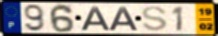1: (170, 6, 185, 32)
6: (48, 3, 76, 33)
9: (23, 3, 46, 32)
A: (80, 5, 112, 31), (108, 5, 139, 31)
S: (141, 5, 169, 32)
